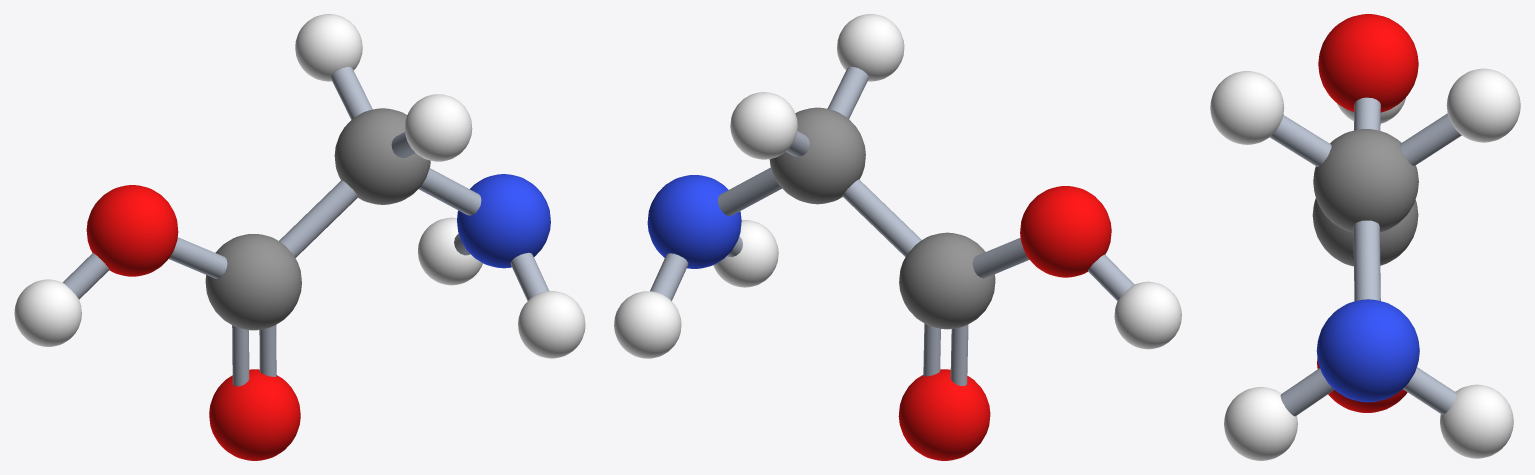
The model's file is glycine.glb.
The picture shows the model from 3 angles, left to right: view 1: azimuth 30°, elevation 25°; view 2: azimuth 150°, elevation 25°; view 3: azimuth 270°, elevation 25°; orthographic projection. The views are drawn at different scales.
Parts seen in each view (by area): view 1: H (×5), C (×2), O (×2), bond (×8), N; view 2: H (×5), C (×2), O (×2), bond (×8), N; view 3: H (×5), C (×2), bond (×6), O (×2), N.
Part boxes in pixels (box(x1,y1,x2,y2)): H (×5): box(14, 14, 585, 358); C (×2): box(205, 108, 430, 330); O (×2): box(86, 185, 300, 460); bond (×8): box(63, 66, 549, 386); N: box(457, 174, 550, 268); H (×5): box(614, 14, 1181, 358); C (×2): box(769, 107, 995, 329); O (×2): box(898, 186, 1111, 460); bond (×8): box(650, 66, 1134, 385); N: box(647, 175, 741, 268); H (×5): box(1210, 68, 1520, 460); C (×2): box(1312, 129, 1418, 266); bond (×6): box(1269, 97, 1461, 416); O (×2): box(1317, 14, 1418, 412); N: box(1316, 299, 1419, 402).
Size of the model in its own units: 0.22 by 0.148 by 0.1031.
